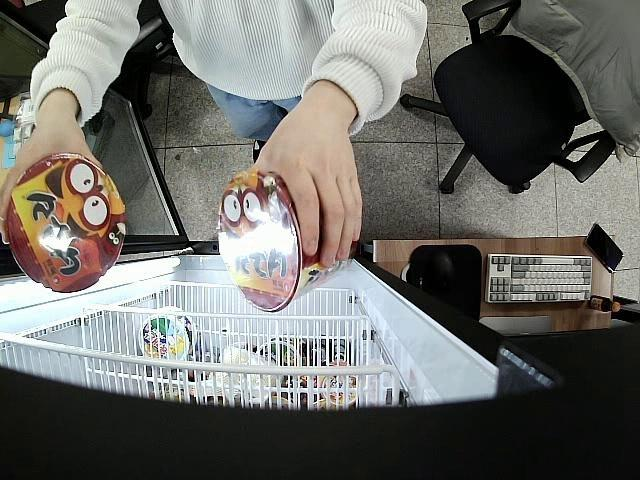05_nuguri_L: (218, 168, 356, 313), (5, 154, 126, 294)
